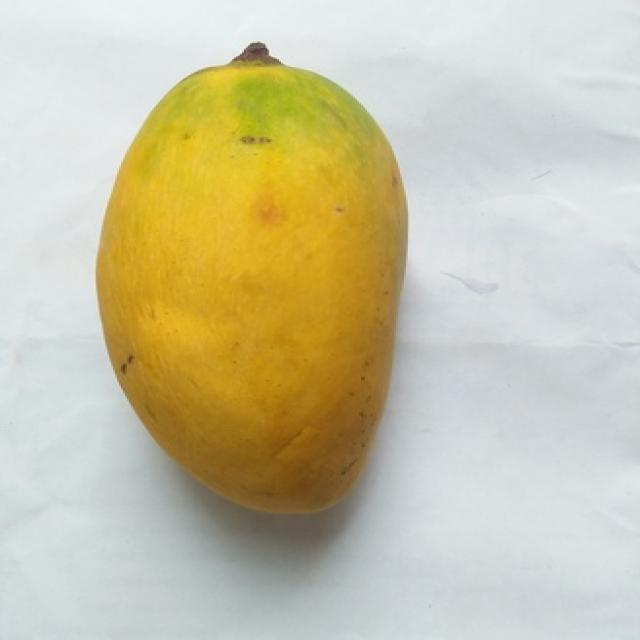Mango: (98, 43, 404, 511)
